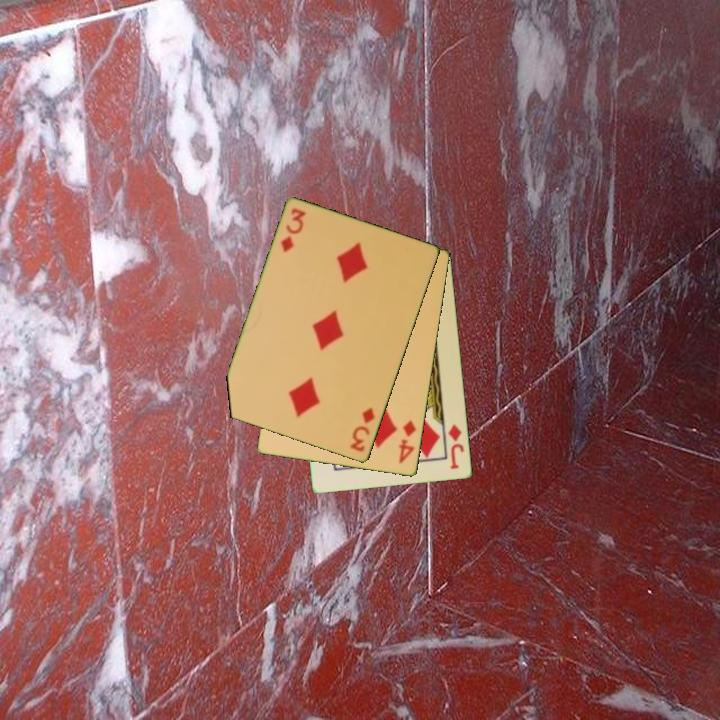3d: (277, 205, 309, 255), (347, 404, 378, 455)
4d: (395, 417, 419, 467)
Jd: (445, 420, 467, 472)
